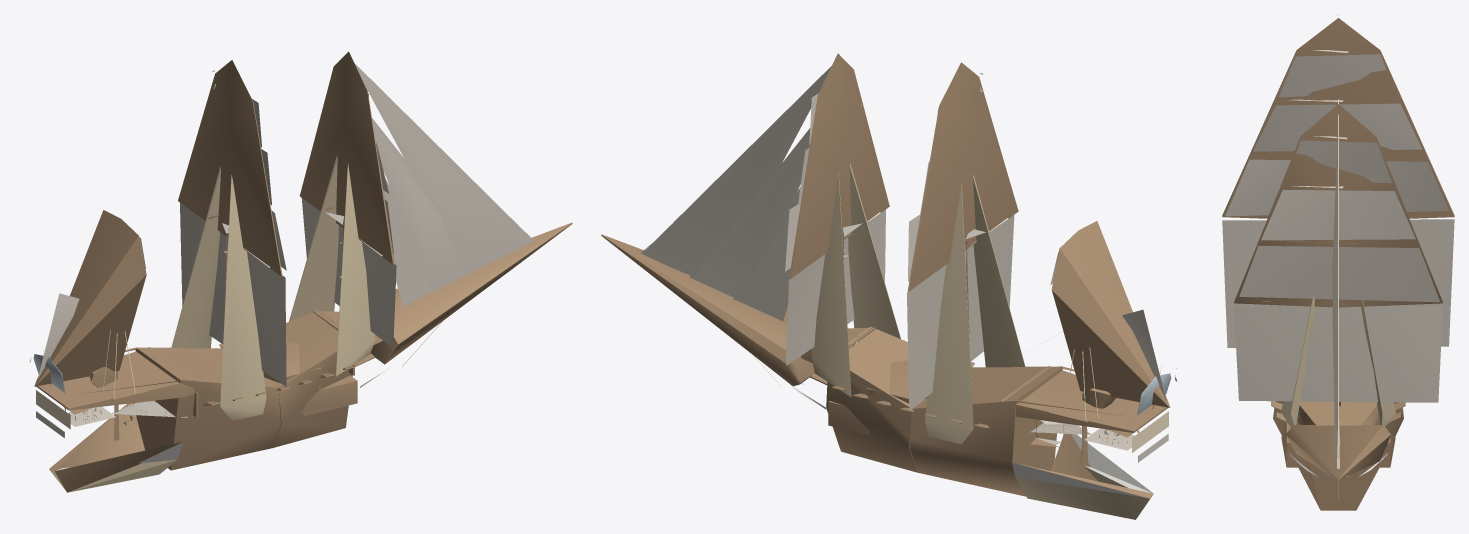
File: Second_Bride_LOD0.dae
The picture shows the model from 3 angles, left to right: view 1: azimuth 30°, elevation 25°; view 2: azimuth 150°, elevation 25°; view 3: azimuth 270°, elevation 25°; orthographic projection. The views are drawn at different scales.
Visible parts, largest first — view 1: Bride_Sails_Head_LOD0, Bride_Topmast_Main_LOD0, Bride_Topmast_Mizzen_LOD0, Bride_Hull_Aft_LOD0, Bride_Topmast_Fore_LOD0, Bride_Sails_Main_LOD0, Bride_Shrouds_Main_S_LOD0, Bride_Hull_Fore_LOD0, Bride_Hull_Stern_LOD0, Bride_Bowsprit_LOD0, Bride_Deck_Quarter_LOD0, Bride_Shrouds_Fore_S_LOD0 (+7 smaller); view 2: Bride_Sails_Head_LOD0, Bride_Topmast_Main_LOD0, Bride_Topmast_Mizzen_LOD0, Bride_Hull_Aft_LOD0, Bride_Topmast_Fore_LOD0, Bride_Hull_Fore_LOD0, Bride_Shrouds_Main_P_LOD0, Bride_Sails_Main_LOD0, Bride_Hull_Stern_LOD0, Bride_Bowsprit_LOD0, Bride_Sails_Fore_LOD0, Bride_Shrouds_Fore_P_LOD0 (+7 smaller); view 3: Bride_Sails_Fore_LOD0, Bride_Sails_Main_LOD0, Bride_Topmast_Fore_LOD0, Bride_Topmast_Main_LOD0, Bride_Bowsprit_LOD0, Bride_Hull_Fore_LOD0, Bride_Deck_Fore_LOD0, Bride_Sails_Head_LOD0, Bride_Shrouds_Fore_S_LOD0, Bride_Shrouds_Fore_P_LOD0, Bride_Deck_Lower_LOD0, Bride_Stays_LOD0 (+1 smaller).
Part boxes in pixels (x1,y1,x2,y2): Bride_Sails_Head_LOD0: [354, 63, 533, 306]; Bride_Topmast_Main_LOD0: [178, 60, 282, 276]; Bride_Topmast_Mizzen_LOD0: [34, 210, 146, 386]; Bride_Hull_Aft_LOD0: [133, 347, 280, 470]; Bride_Topmast_Fore_LOD0: [300, 51, 394, 264]; Bride_Sails_Main_LOD0: [180, 99, 286, 386]; Bride_Shrouds_Main_S_LOD0: [220, 175, 266, 420]; Bride_Hull_Fore_LOD0: [266, 310, 352, 447]; Bride_Hull_Stern_LOD0: [49, 347, 183, 492]; Bride_Bowsprit_LOD0: [371, 222, 572, 364]; Bride_Deck_Quarter_LOD0: [36, 347, 195, 410]; Bride_Shrouds_Fore_S_LOD0: [335, 163, 375, 376]; Bride_Sails_Head_LOD0: [642, 66, 831, 321]; Bride_Topmast_Main_LOD0: [907, 62, 1018, 291]; Bride_Topmast_Mizzen_LOD0: [1051, 221, 1170, 407]; Bride_Hull_Aft_LOD0: [909, 366, 1062, 496]; Bride_Topmast_Fore_LOD0: [789, 53, 889, 278]; Bride_Hull_Fore_LOD0: [826, 327, 925, 472]; Bride_Shrouds_Main_P_LOD0: [925, 183, 973, 444]; Bride_Sails_Main_LOD0: [907, 108, 1014, 410]; Bride_Hull_Stern_LOD0: [1012, 367, 1153, 519]; Bride_Bowsprit_LOD0: [601, 234, 814, 386]; Bride_Sails_Fore_LOD0: [785, 93, 885, 365]; Bride_Shrouds_Fore_P_LOD0: [811, 172, 851, 397]; Bride_Sails_Fore_LOD0: [1234, 140, 1442, 402]; Bride_Sails_Main_LOD0: [1222, 54, 1454, 347]; Bride_Topmast_Fore_LOD0: [1234, 104, 1442, 307]; Bride_Topmast_Main_LOD0: [1222, 18, 1454, 218]; Bride_Bowsprit_LOD0: [1286, 425, 1390, 480]; Bride_Hull_Fore_LOD0: [1273, 401, 1403, 510]; Bride_Deck_Fore_LOD0: [1297, 401, 1379, 425]; Bride_Sails_Head_LOD0: [1332, 128, 1337, 459]; Bride_Shrouds_Fore_S_LOD0: [1281, 295, 1315, 425]; Bride_Shrouds_Fore_P_LOD0: [1361, 300, 1395, 425]; Bride_Deck_Lower_LOD0: [1286, 423, 1390, 467]; Bride_Stays_LOD0: [1338, 99, 1338, 501].
Size of the model in its own units: 58.49 by 18.8 by 39.66.
